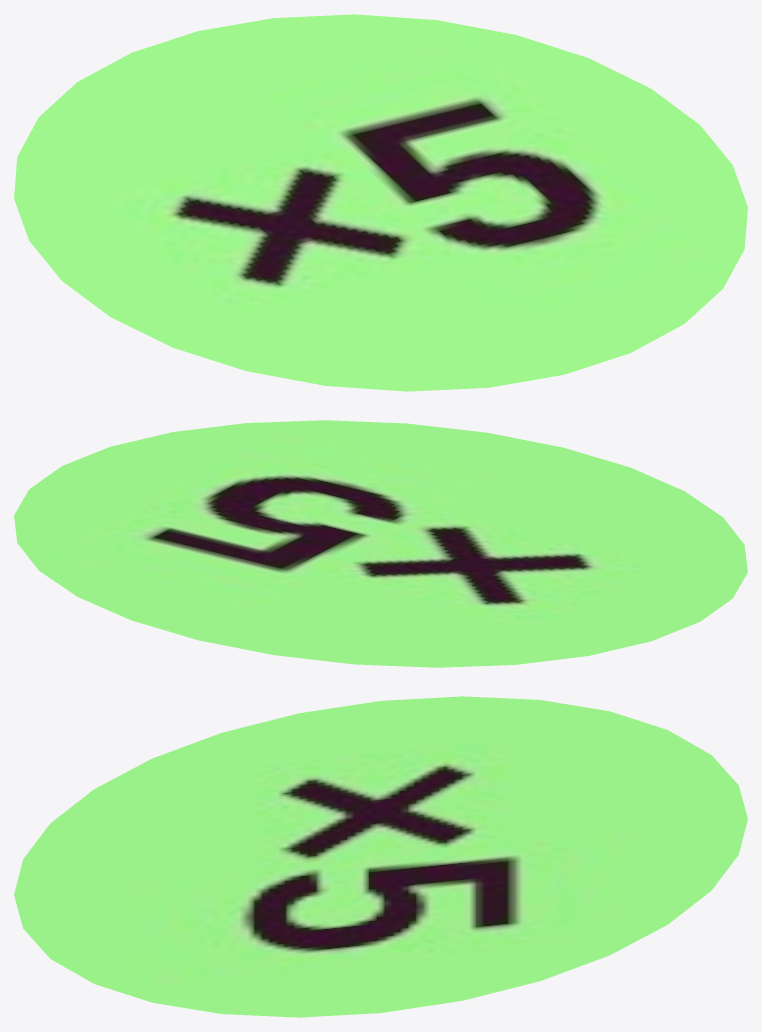
File: pp_light_mult5.glb
The picture shows the model from 3 angles, top to bottom: view 1: azimuth 30°, elevation 25°; view 2: azimuth 150°, elevation 25°; view 3: azimuth 270°, elevation 25°; orthographic projection.
Visible parts, largest first — view 1: MultLight; view 2: MultLight; view 3: MultLight.
Part boxes in pixels (x1,y1,x2,y2): MultLight: [14, 14, 747, 391]; MultLight: [14, 420, 747, 667]; MultLight: [14, 696, 747, 1017].
Size of the model in its own units: 0.025 by 0.00283 by 0.0248.
1 material, 1 textured.
